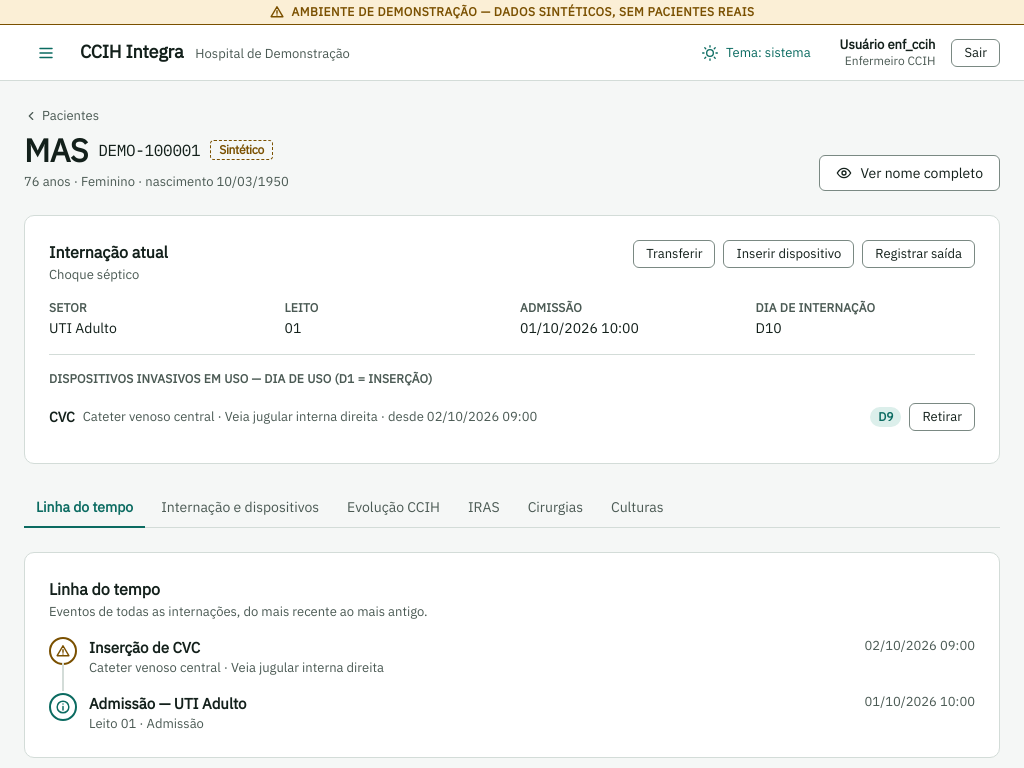
Test: clinical modules › reveal the full name only after a justified request
Click the button "Ver nome completo" at [910, 173], box [819,155,1000,191]
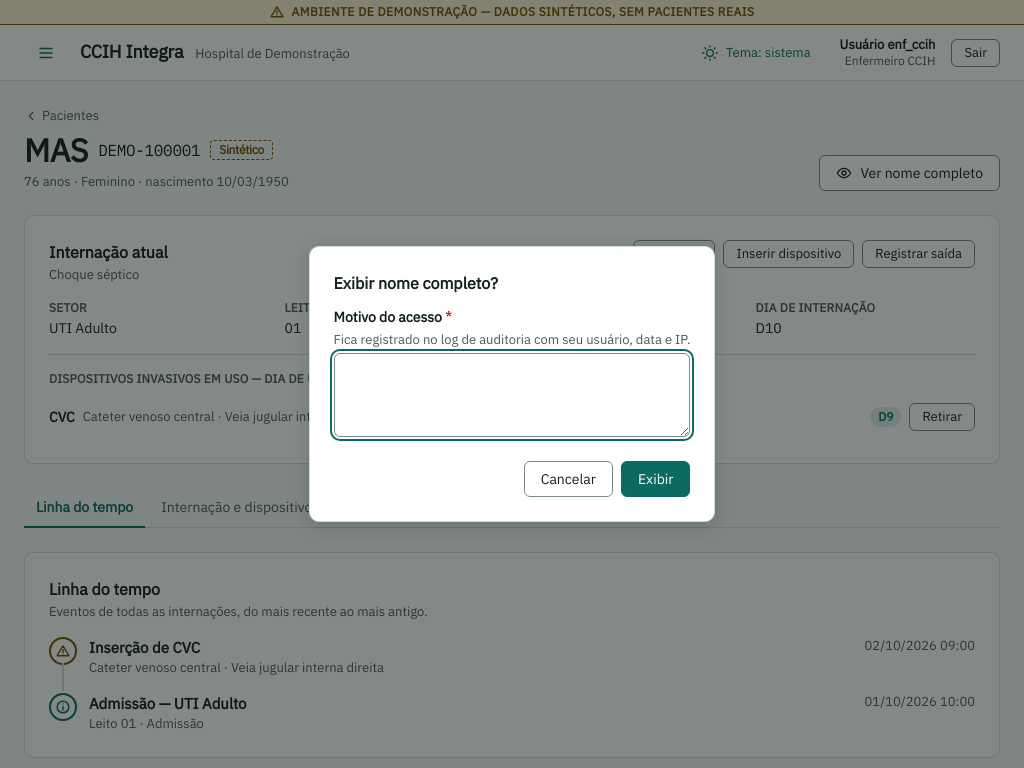
Click the button "Exibir" at [656, 479], box [621,461,690,497]
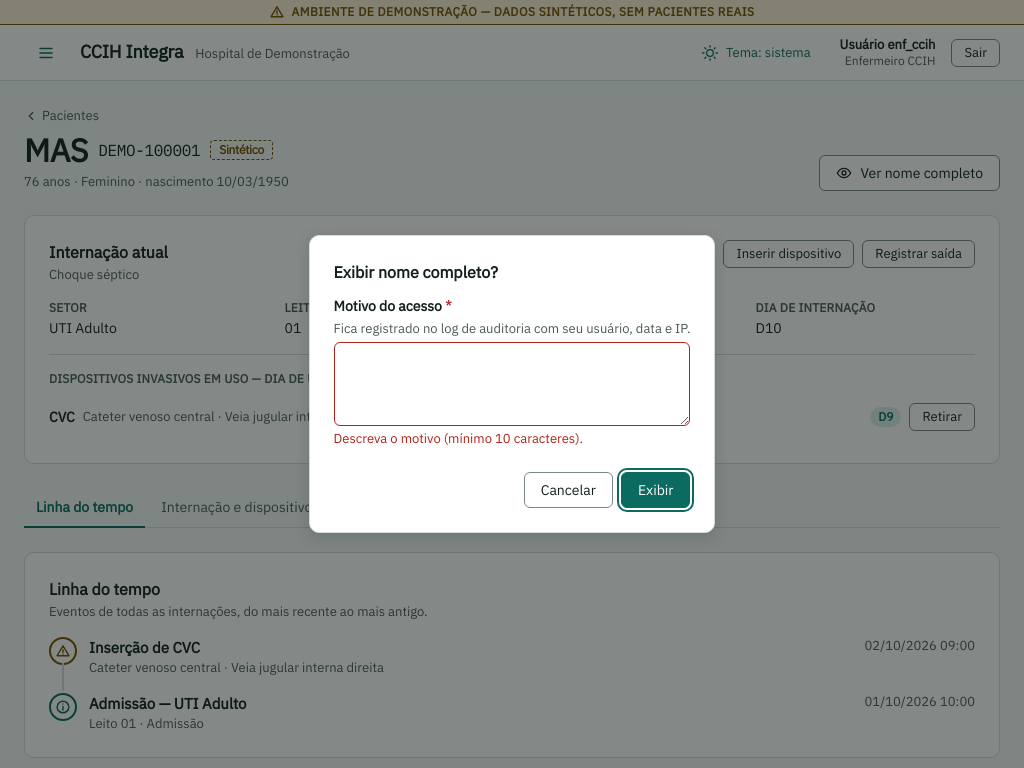
Expected: the text "Descreva o motivo (mínimo 10 caracteres)." is shown, [334,430,583,447]
Type "Conferência para notificação compulsória" into the text box labelled "Motivo do acesso *" at [512, 384], box [334,342,690,426]
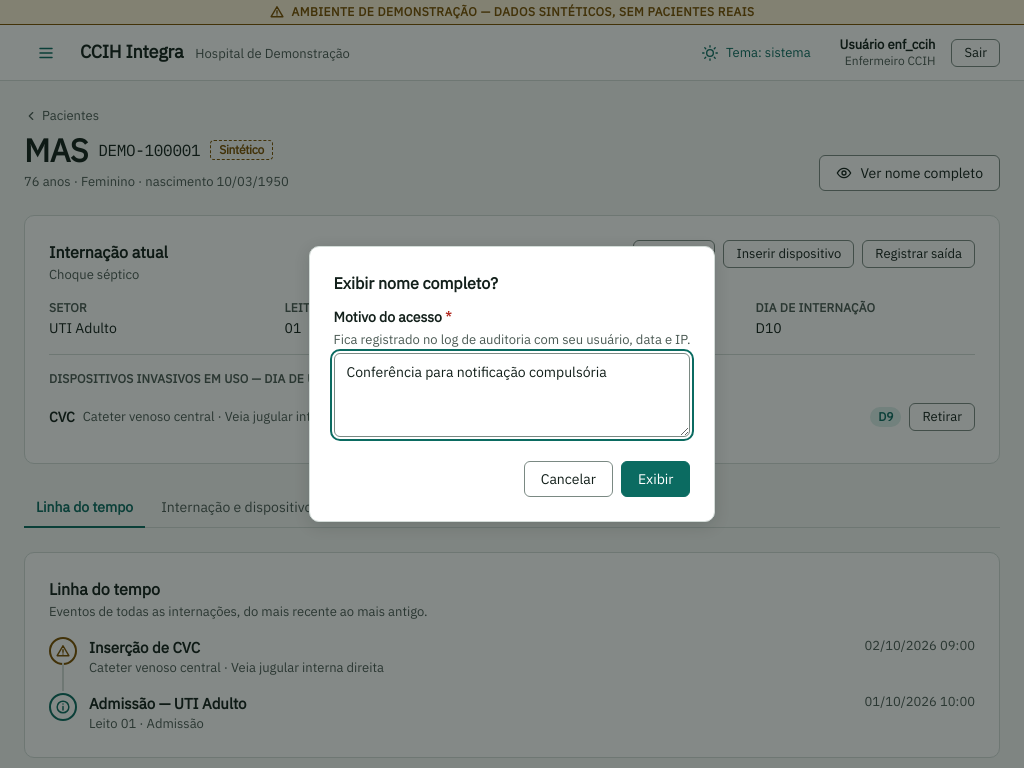
Click the button "Exibir" at [656, 479], box [621,461,690,497]
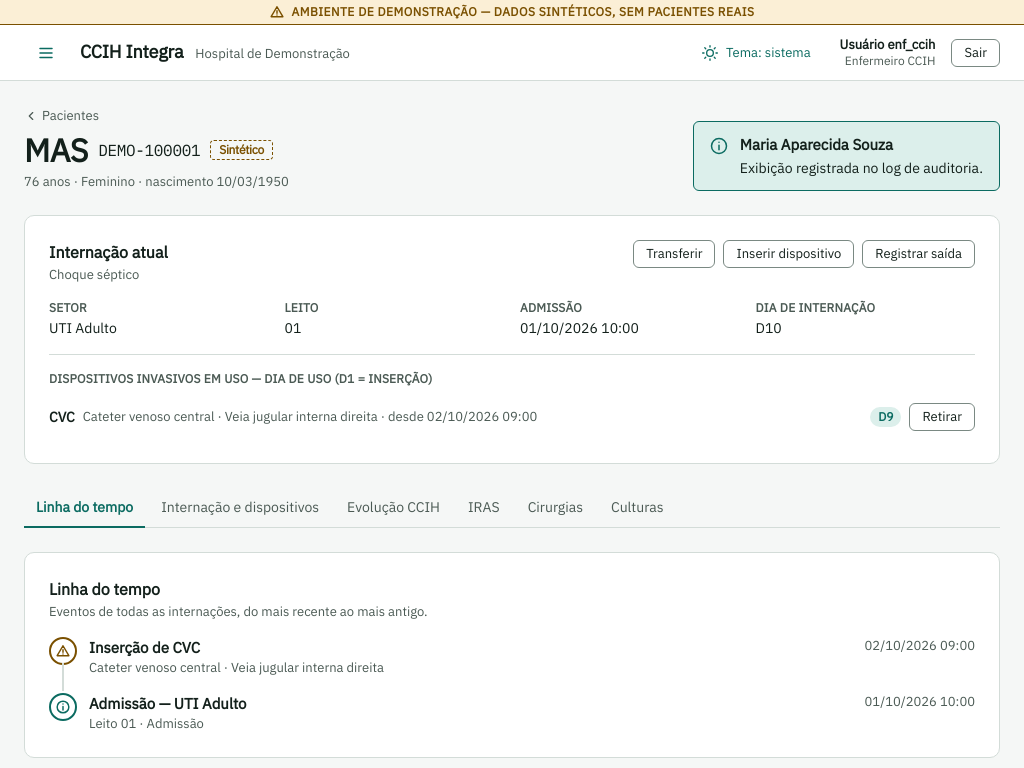
Expected: the text "Maria Aparecida Souza" is shown, [740,135,893,154]
